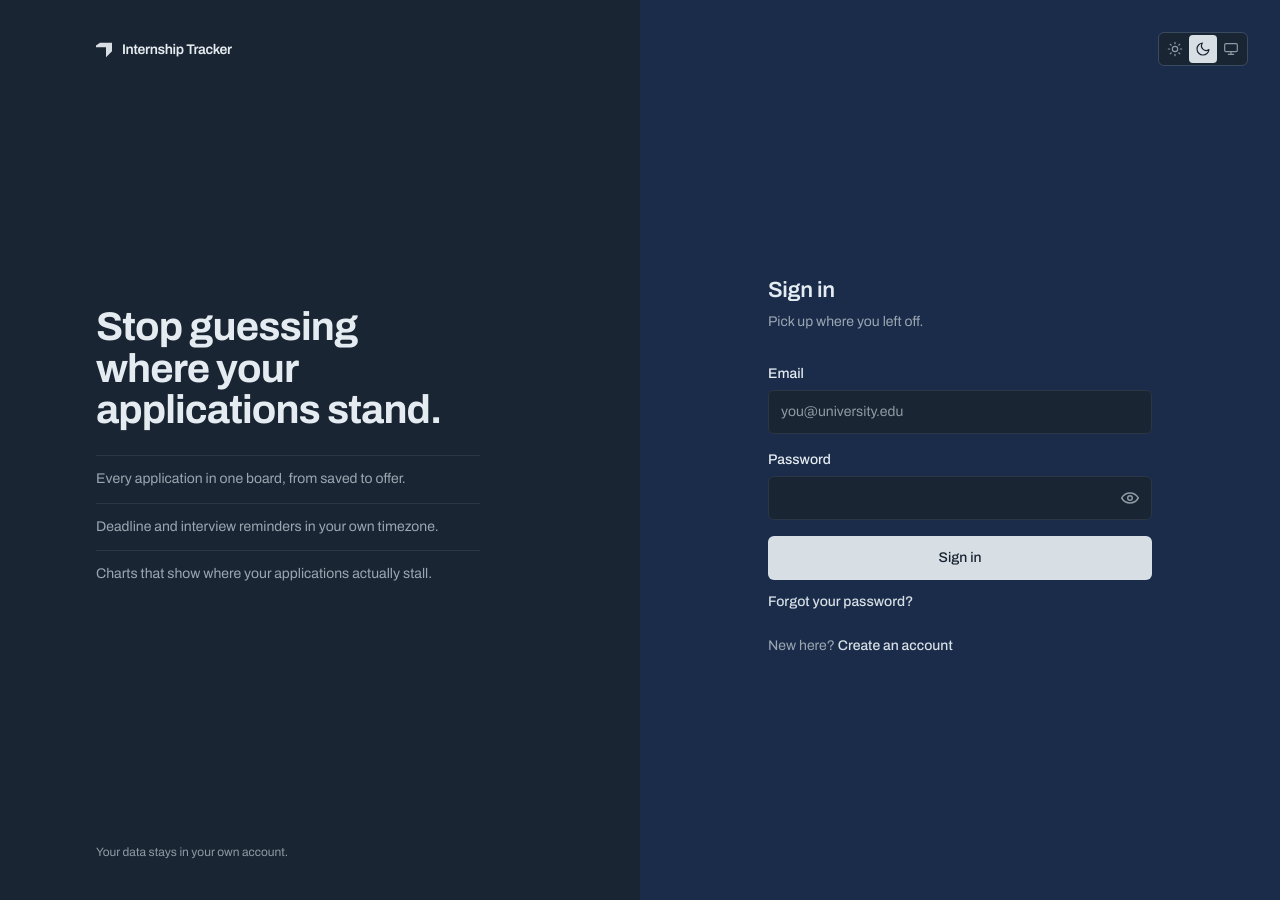
it: signing in to a closed account › asks before restoring, naming the date the account will be deleted
Check: the button "Sign in" is shown, box [768,536,1152,580]
Type "ada@example.test" into the field labelled "Email" at (960, 412), box [768,390,1152,434]
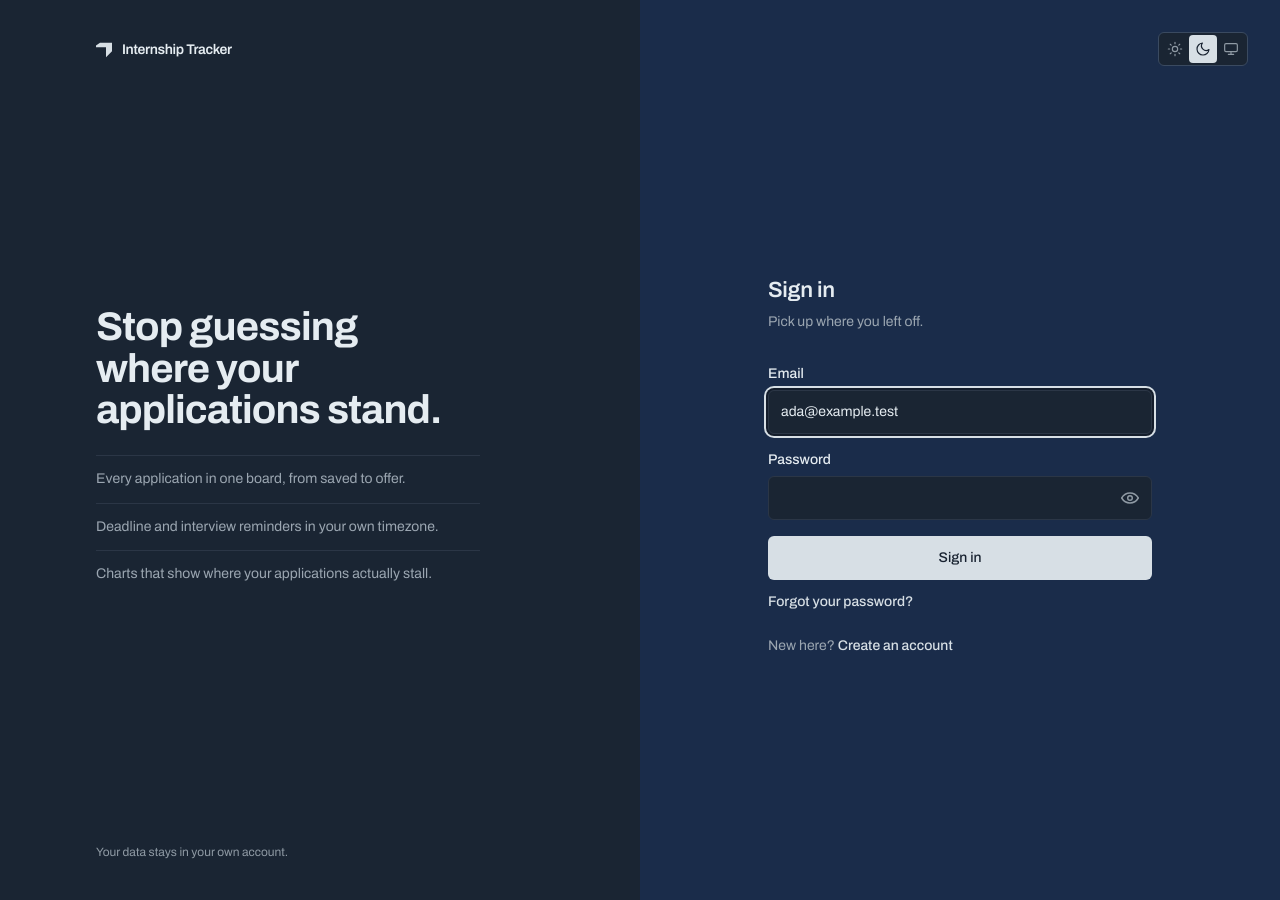
Type "Password1" into the password field labelled "Password" at (960, 498), box [768,476,1152,520]
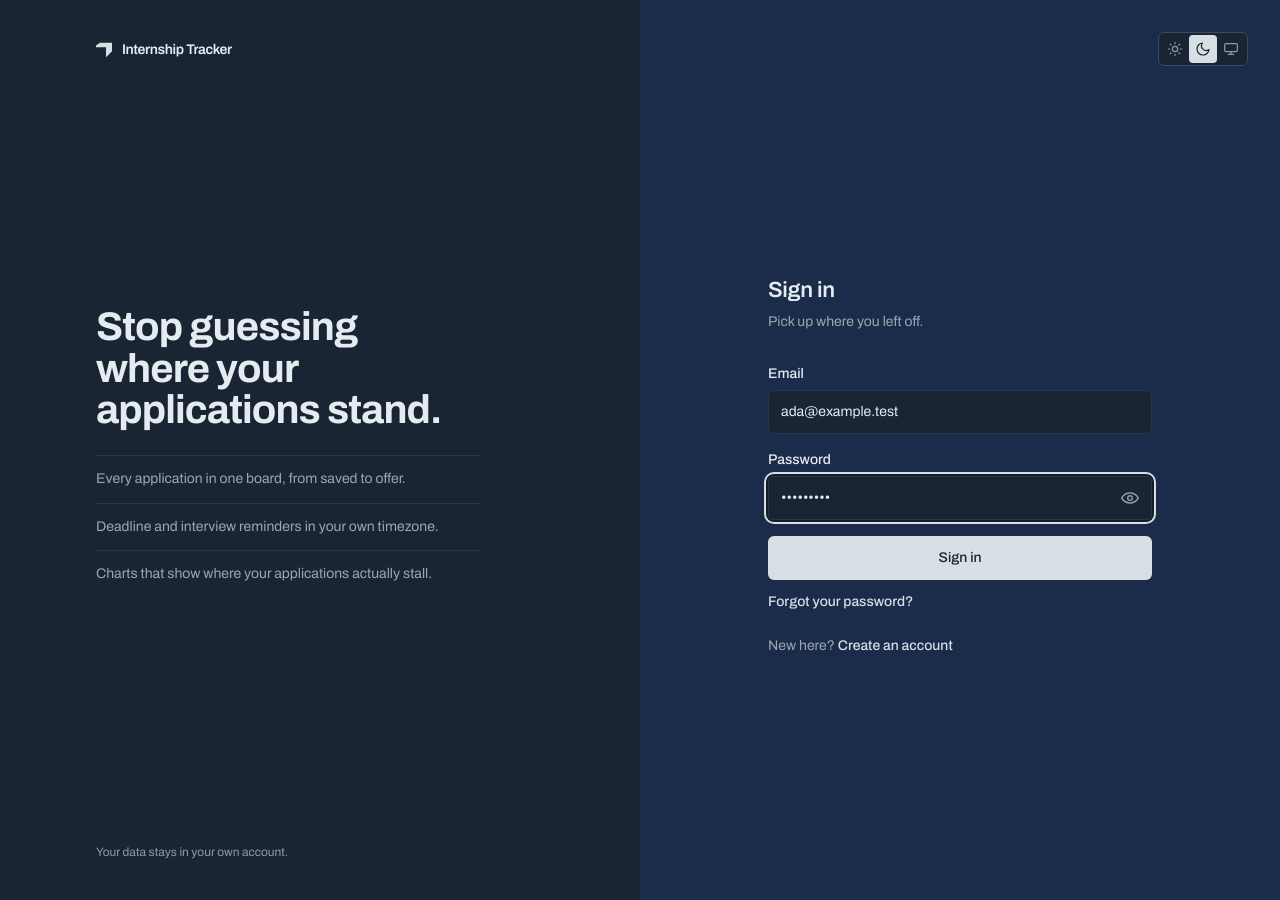
Click the button "Sign in" at (960, 558), box [768,536,1152,580]
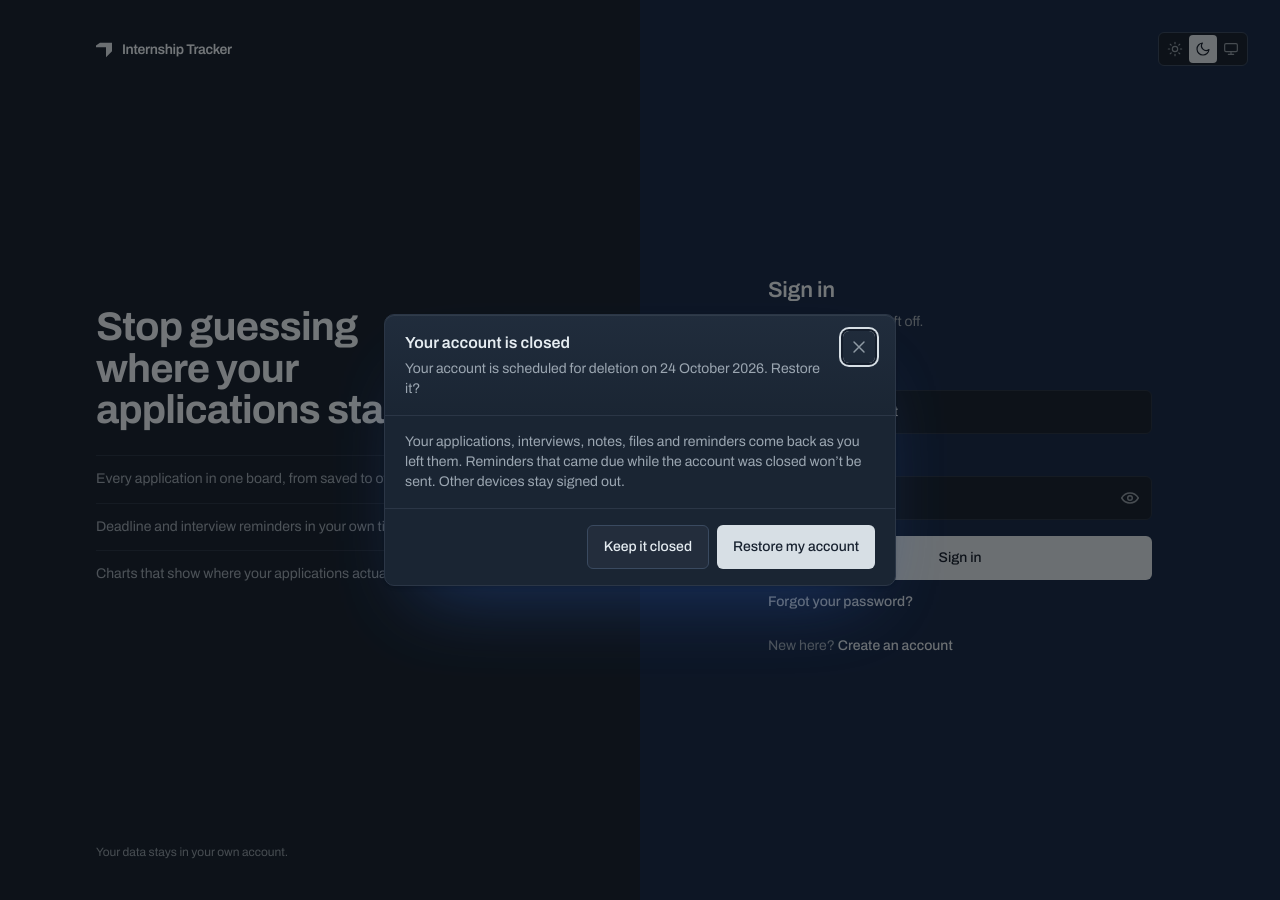
Check: the dialog "Your account is closed" shows "Your account is scheduled for deletion on 24 October 2026. Restore it?", box [405,361,820,396]
Check: the dialog "Your account is closed" shows "won.t be sent", box [405,434,861,489]
